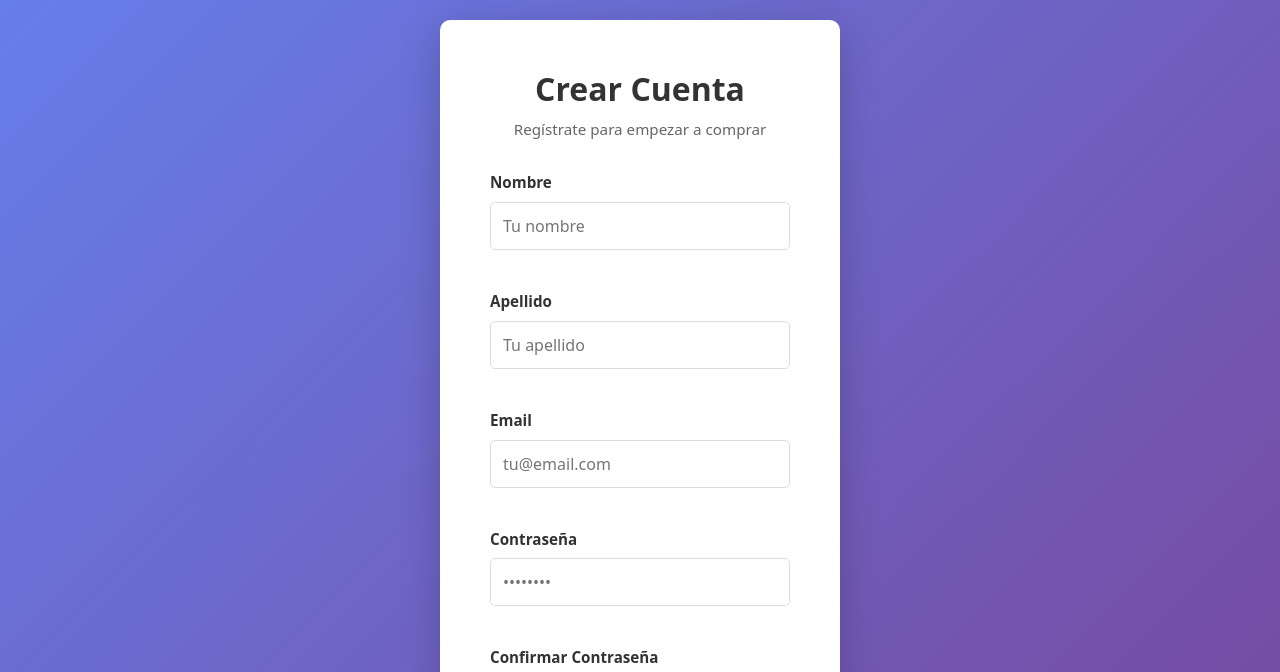
Scenario: Register Page › Estado del botón Registrarse › el botón debe estar deshabilitado cuando hay errores de validación
Solo nombre con 1 char (inválido)
Type "A" into the field labelled "Nombre" at x=640, y=226, box [490,202,790,250]
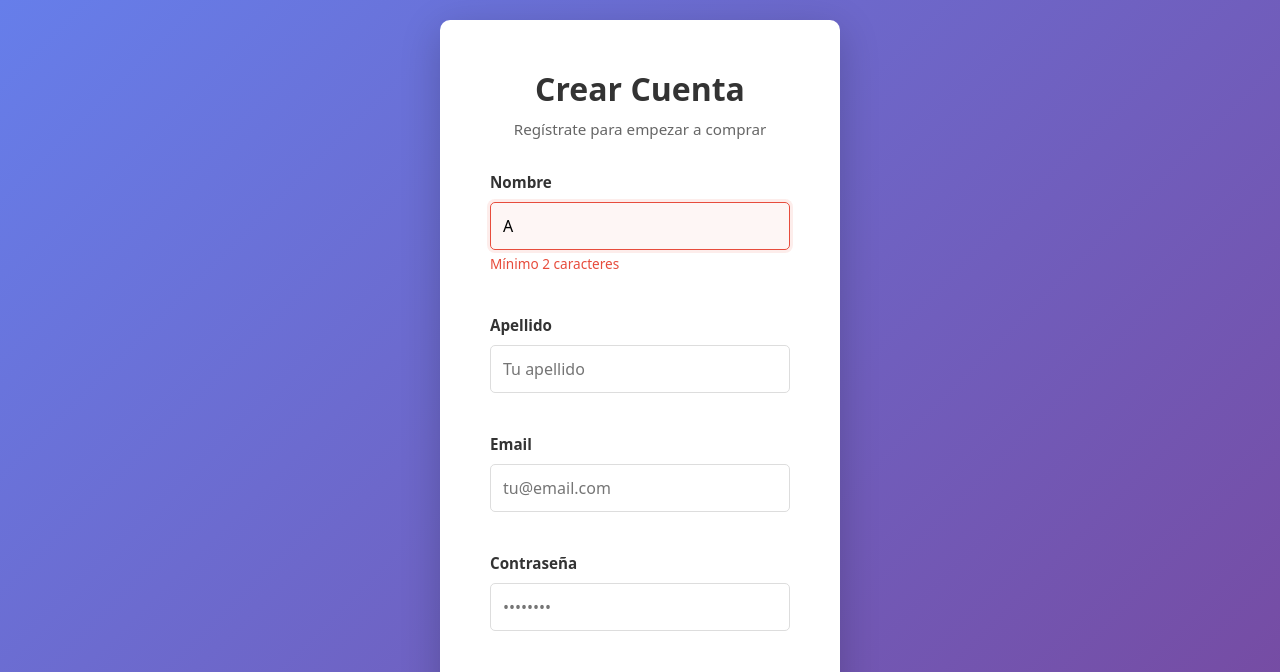
Press Tab
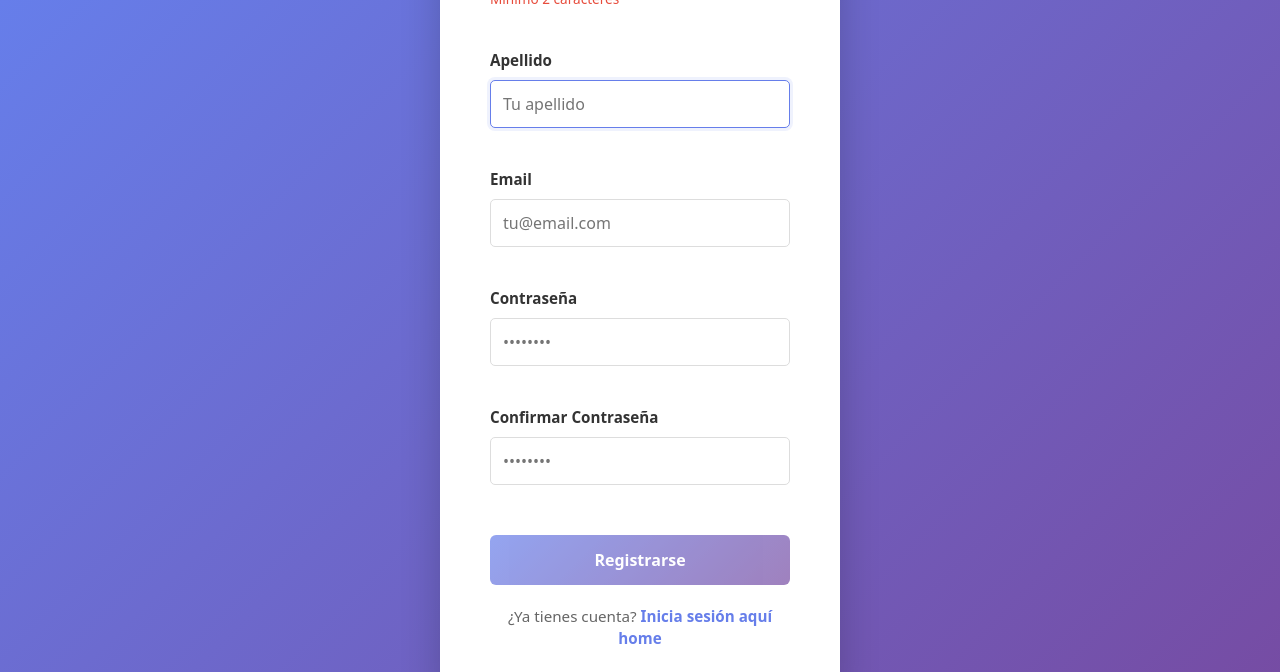
Now the button "Registrarse" is disabled, box [490,535,790,585]
